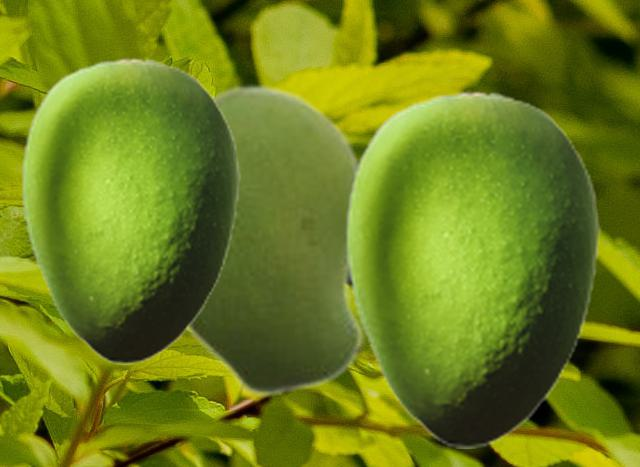green_mango: (344, 90, 599, 447), (20, 57, 239, 363), (185, 83, 368, 398)
